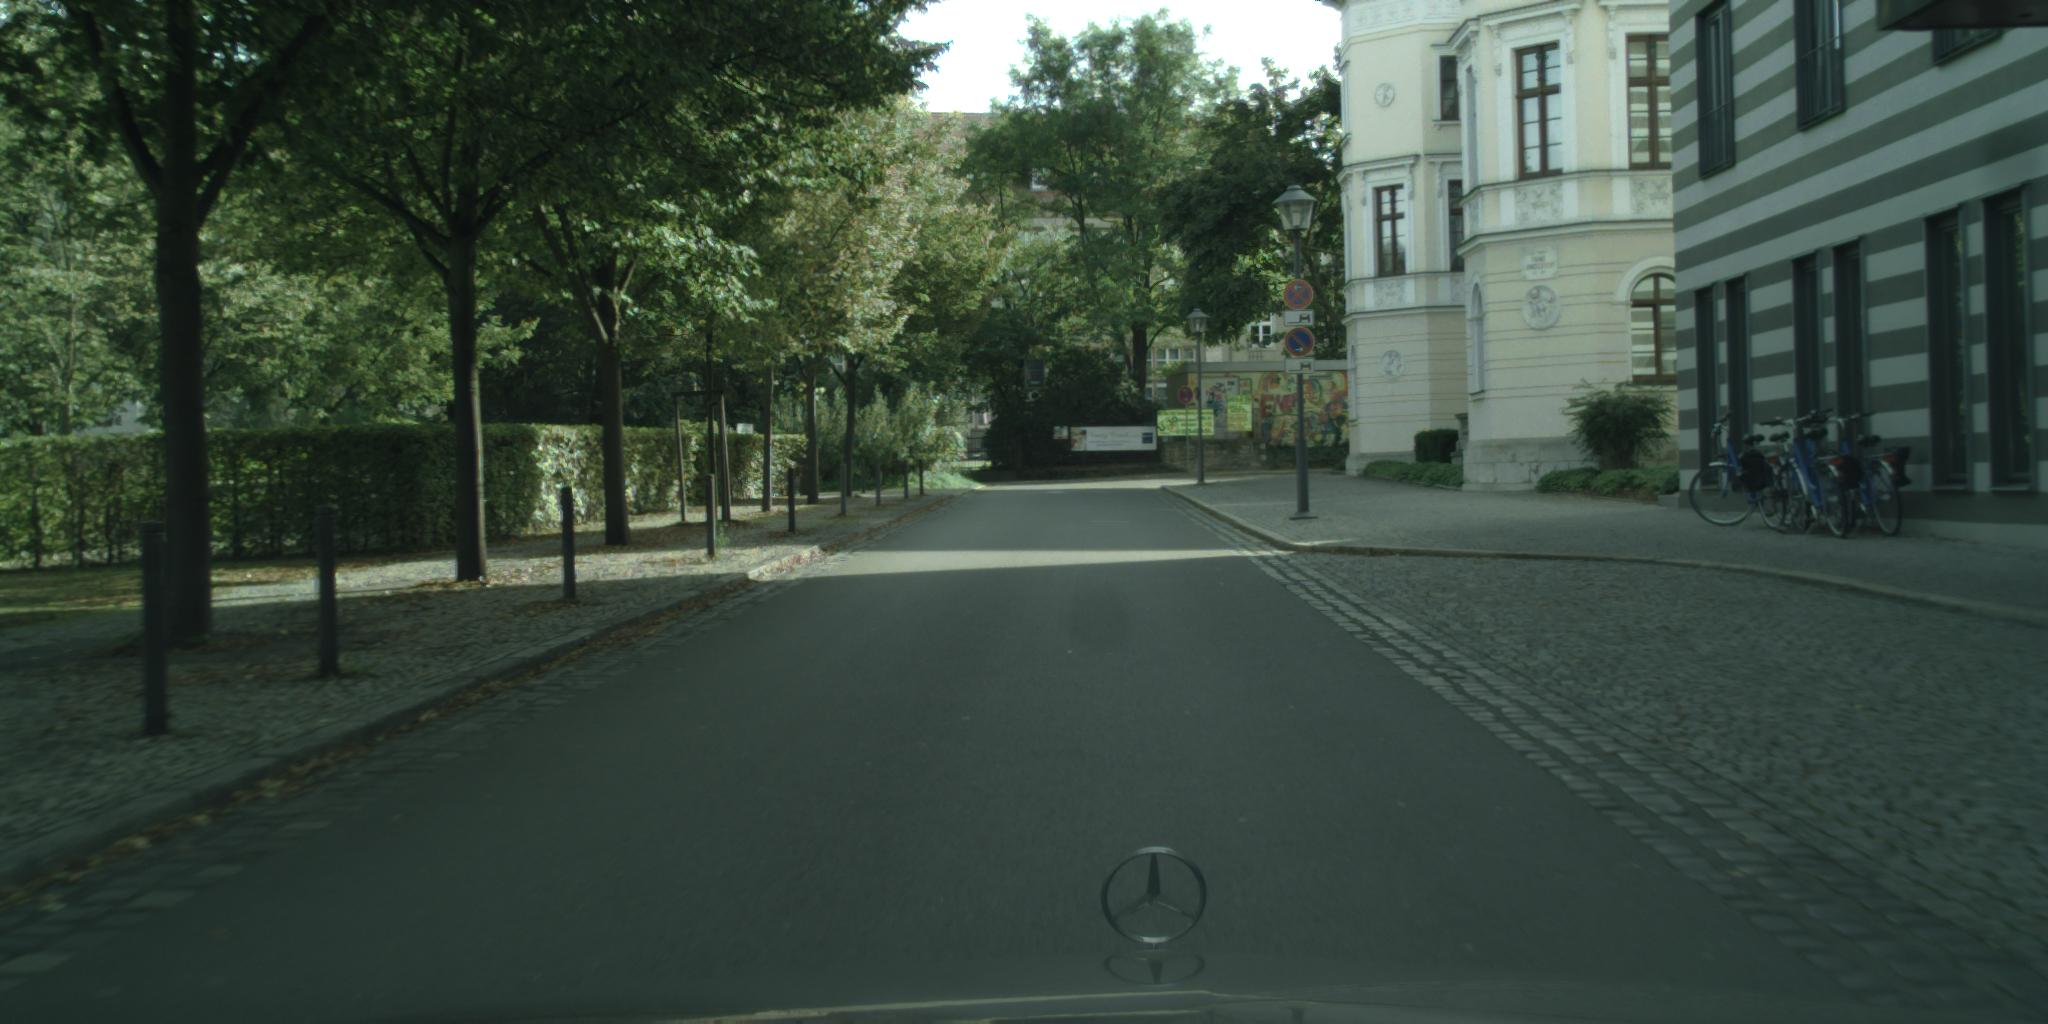bicycle: (1691, 411, 1789, 533)
